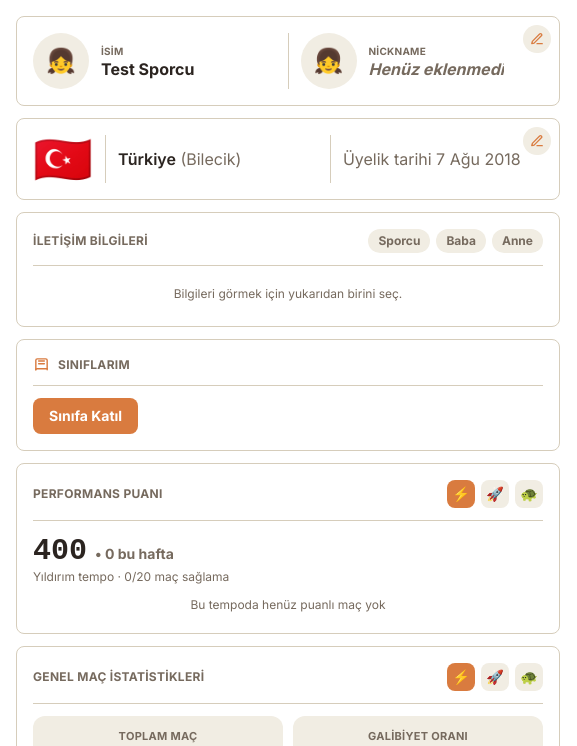
Scenario: Profil sayfası — İletişim Bilgileri kartı (madde 2026-09-07, GRUP C) › "Anne" seçilince eksik telefon "Telefon girilmedi" olarak gösterilir
Expected: the text "İletişim Bilgileri" is shown, [33, 233, 148, 249]
Step 1. Click the button "Anne" → (517, 241), box [492, 229, 543, 253]
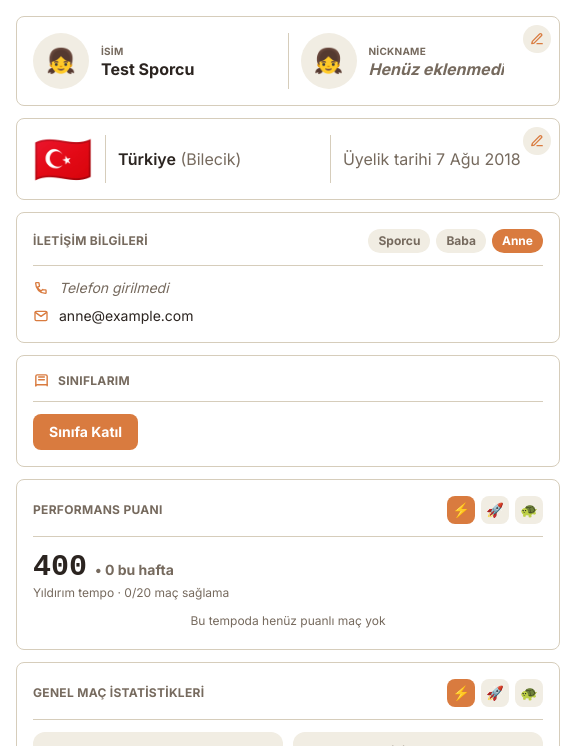
Now the text "Telefon girilmedi" is shown, box [59, 278, 169, 298]
Now the text "anne@example.com" is shown, box [59, 306, 194, 326]
